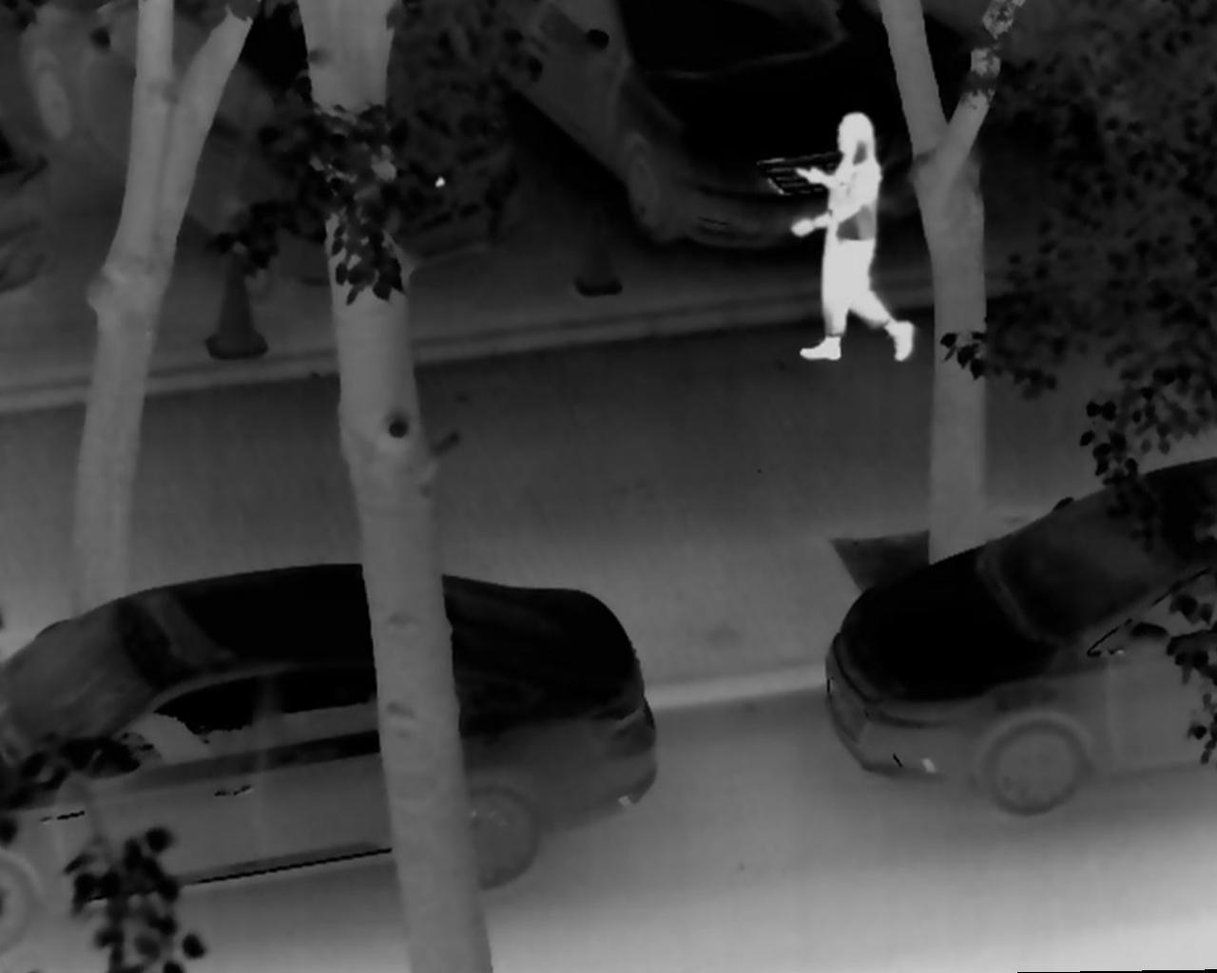person: (785, 110, 918, 369)
